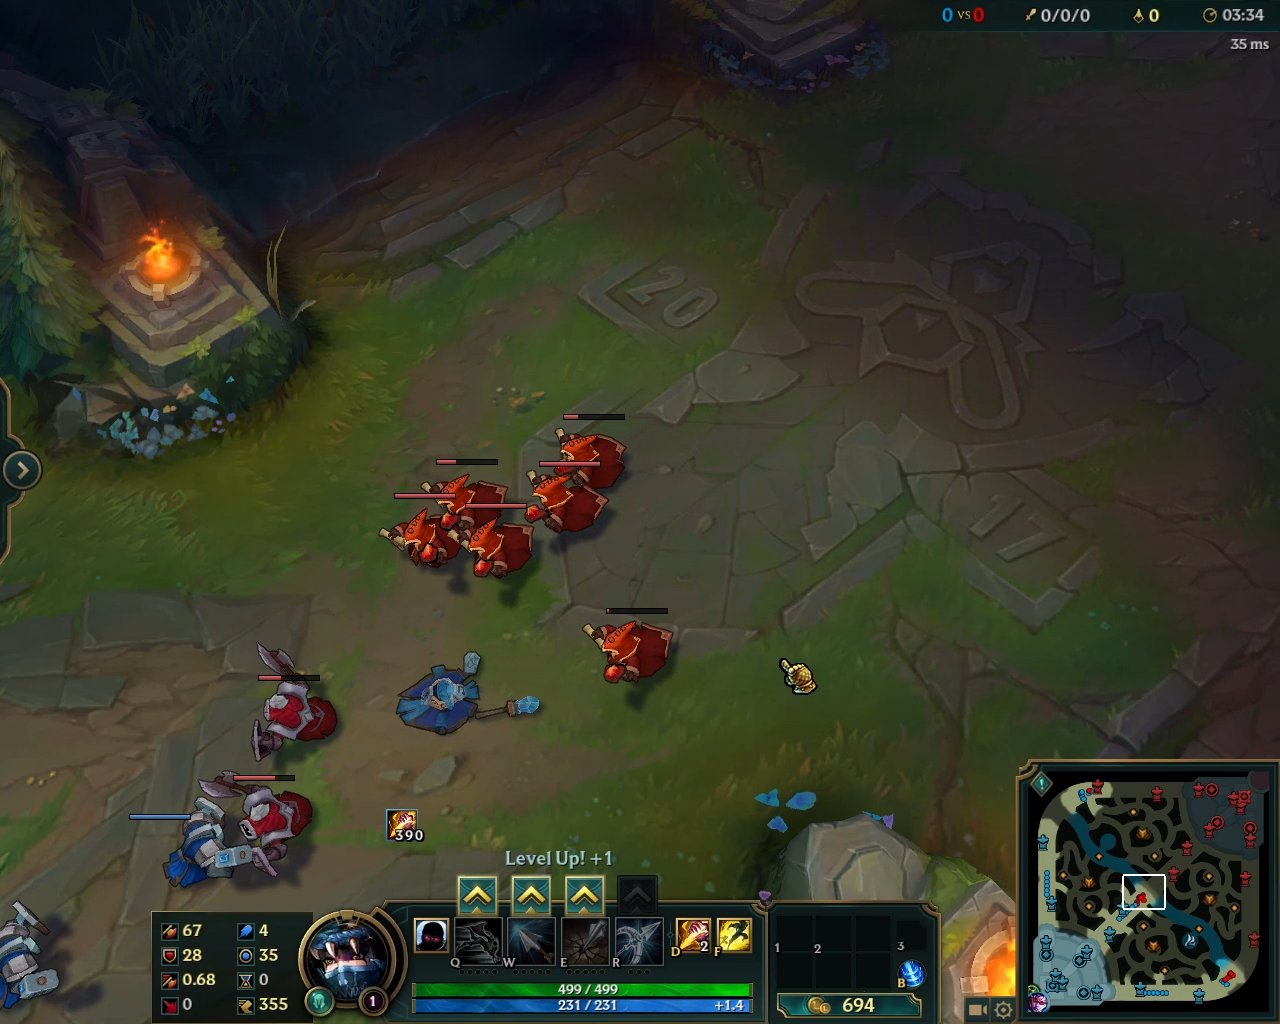EnemyMinion: (248, 644, 339, 765), (206, 772, 306, 877), (585, 606, 677, 688), (380, 491, 464, 567), (558, 410, 628, 498), (526, 460, 603, 537), (461, 502, 529, 587), (425, 456, 506, 528)
